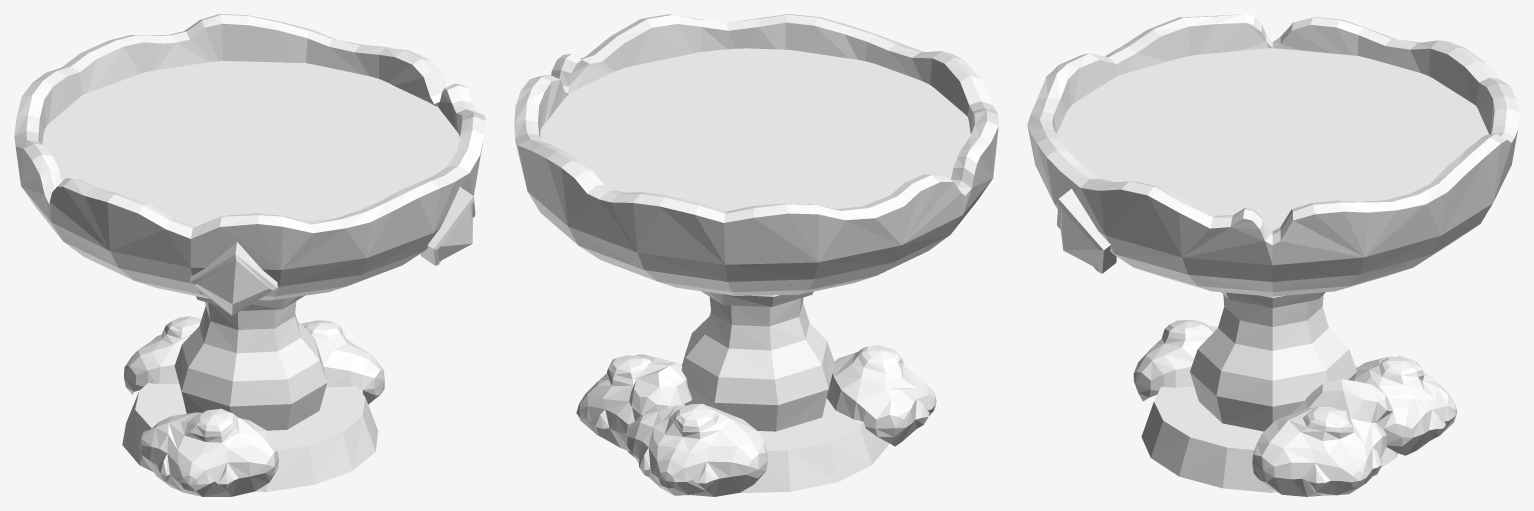
The model's file is g_e_bath.glb.
3 views of the same model, side by side, from view 1: azimuth 30°, elevation 25°; view 2: azimuth 150°, elevation 25°; view 3: azimuth 270°, elevation 25° (orthographic). The views are drawn at different scales.
Parts seen in each view (by area): view 1: geometry_0; view 2: geometry_0; view 3: geometry_0.
Boxes of the visible parts, <box> form: geometry_0: <box>14,14,485,496</box>; geometry_0: <box>514,14,998,496</box>; geometry_0: <box>1027,14,1519,496</box>.
Size of the model in its own units: 0.1523 by 0.1167 by 0.1538.
Materials: 1 (1 with a texture image).
